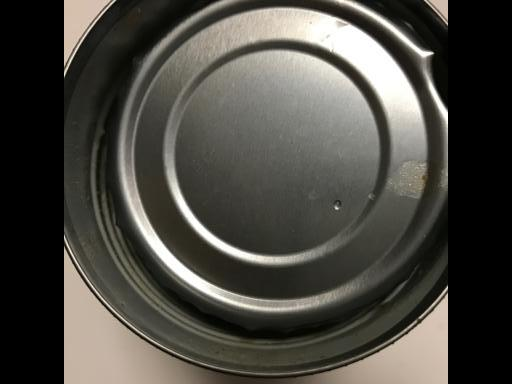metal: (69, 0, 448, 381)
